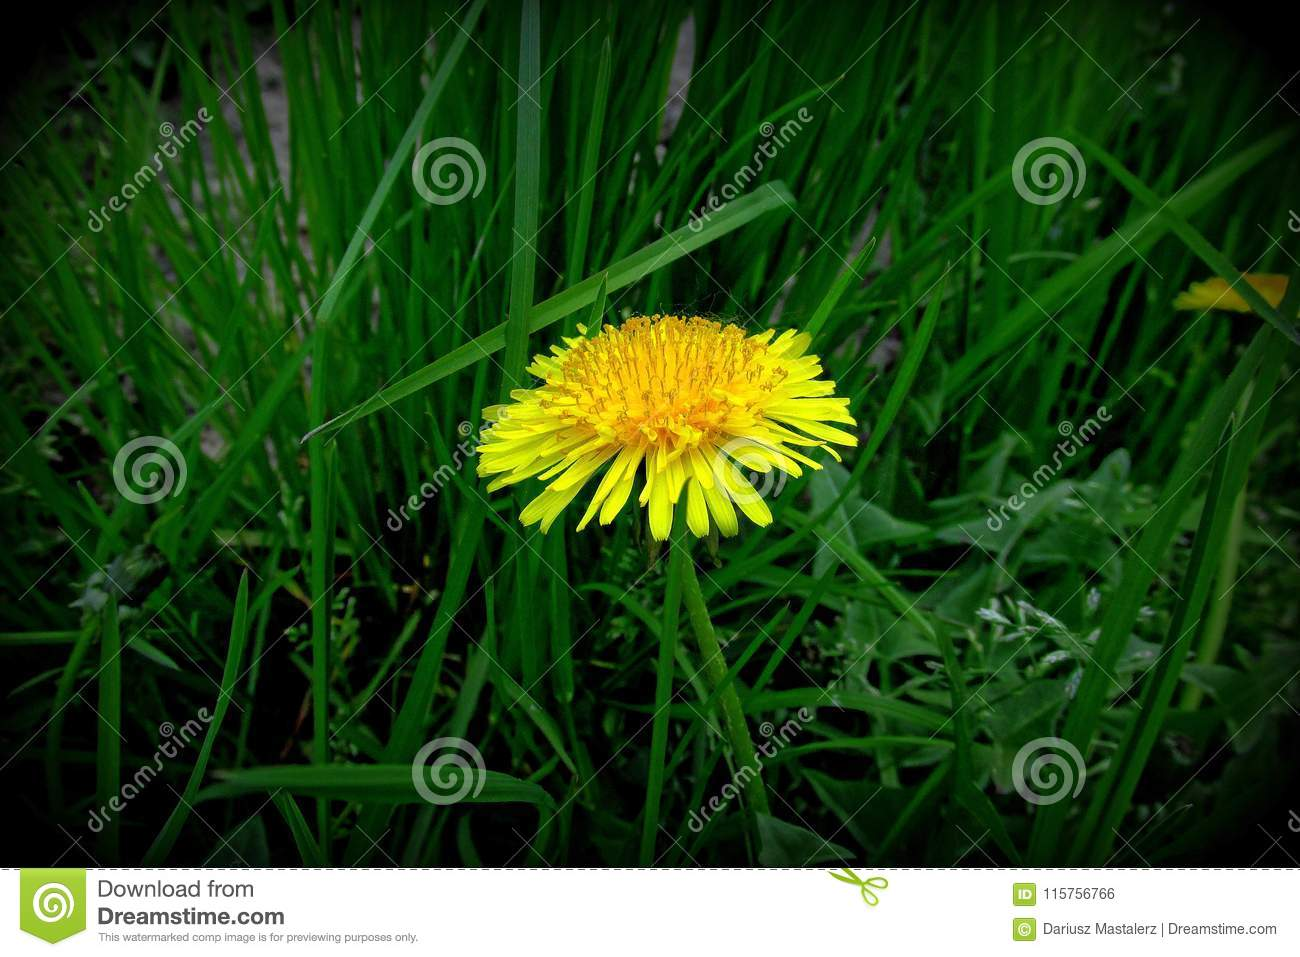dandelion: (462, 265, 865, 525)
